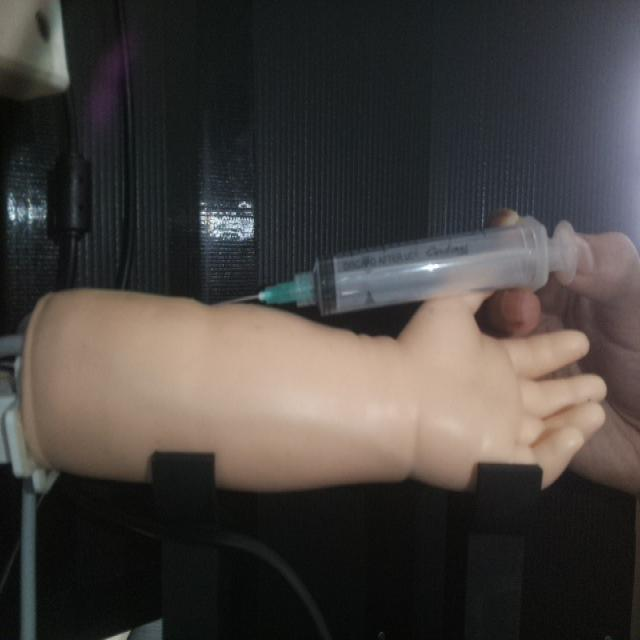Outside: (232, 210, 580, 318)
